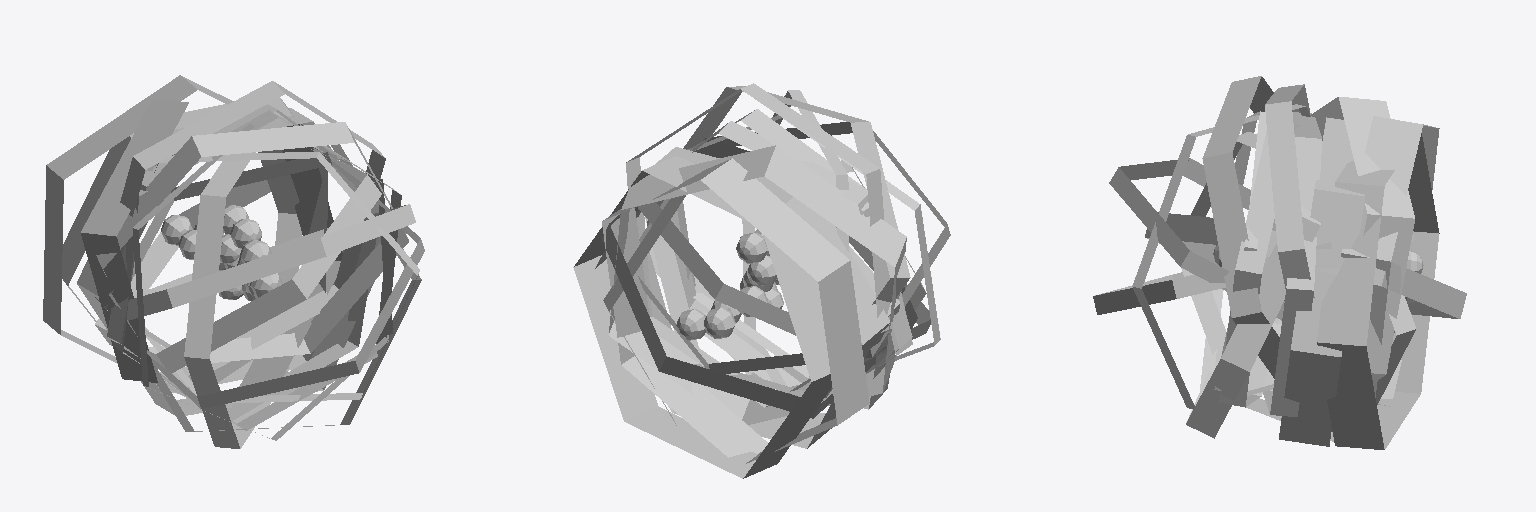
The model's file is snapshot.obj.
3 renders of one model, left to right at view 1: azimuth 30°, elevation 25°; view 2: azimuth 150°, elevation 25°; view 3: azimuth 270°, elevation 25°, orthographic.
Visible parts, largest first — view 1: grp851, grp1; view 2: grp851, grp1; view 3: grp851.
Boxes of the visible parts, box(x1,y1,x2,y2) form: grp851: box(43, 75, 424, 448); grp1: box(161, 205, 281, 300); grp851: box(573, 83, 950, 478); grp1: box(676, 229, 783, 340); grp851: box(1093, 76, 1466, 449).
Bounding box in the file's own units: 32.13 × 33.65 × 34.42.